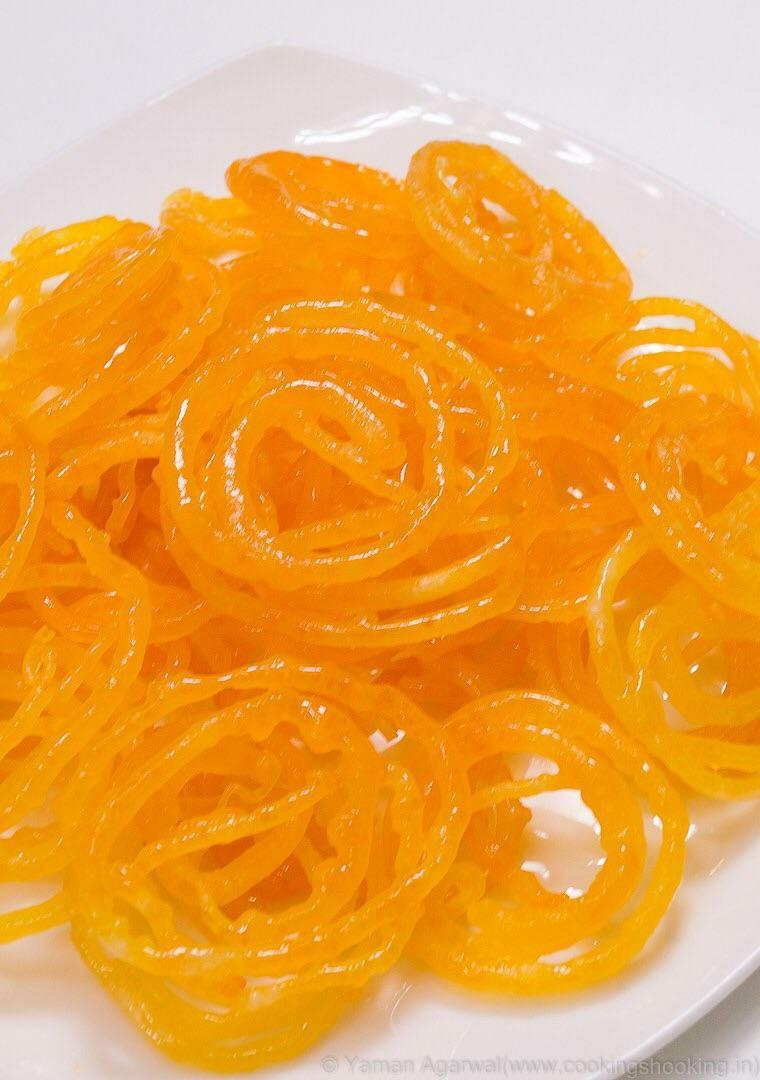Jalebi: (2, 120, 760, 1069)
